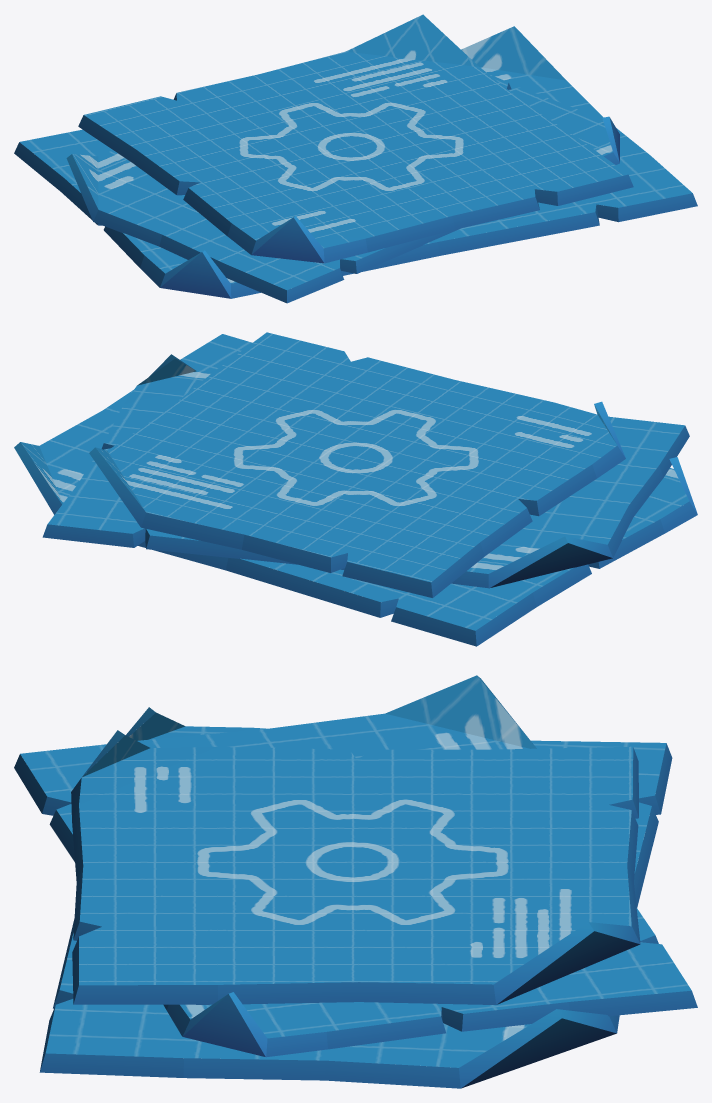
The model's file is blueprint_stacked.glb.
3 renders of one model, top to bottom at view 1: azimuth 30°, elevation 25°; view 2: azimuth 150°, elevation 25°; view 3: azimuth 270°, elevation 25°, orthographic. The views are drawn at different scales.
Parts seen in each view (by area): view 1: blueprint_stacked; view 2: blueprint_stacked; view 3: blueprint_stacked.
Boxes of the visible parts, x1=… form: blueprint_stacked: x1=14, y1=14, x2=697, y2=303; blueprint_stacked: x1=14, y1=332, x2=697, y2=646; blueprint_stacked: x1=14, y1=675, x2=697, y2=1088.
Size of the model in its own units: 1.27 by 0.1628 by 1.05.
Materials: 2 (2 with a texture image).
